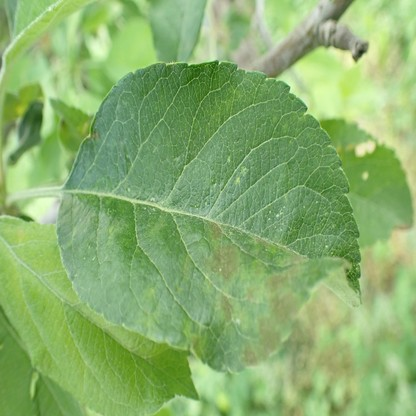scab: (208, 243, 239, 284), (264, 265, 306, 295), (257, 315, 282, 362), (271, 293, 298, 327), (181, 322, 205, 358), (238, 339, 258, 368), (218, 294, 234, 325), (243, 280, 260, 302), (281, 251, 305, 263), (234, 164, 246, 183), (209, 221, 221, 240), (251, 232, 265, 245), (251, 264, 262, 277), (227, 154, 231, 161)
